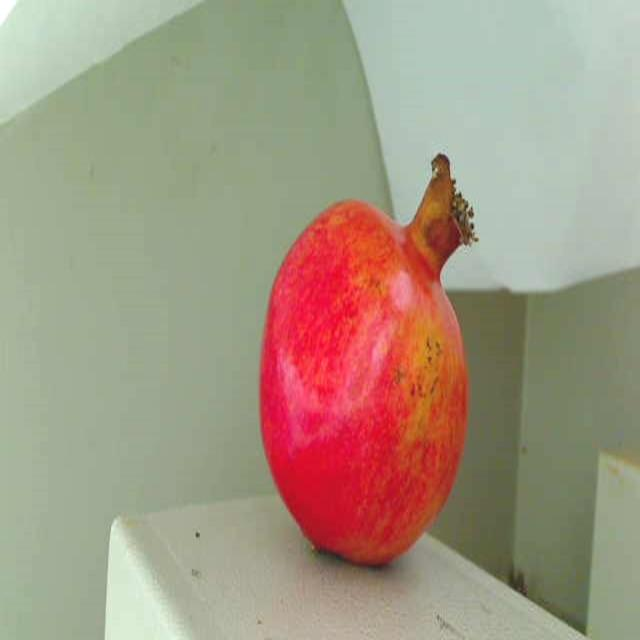pomegranate: (251, 133, 490, 581)
